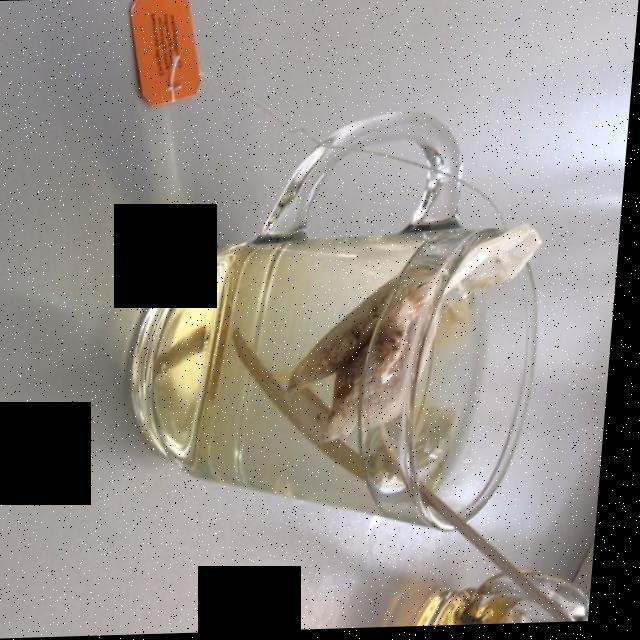tea: (149, 214, 479, 524)
